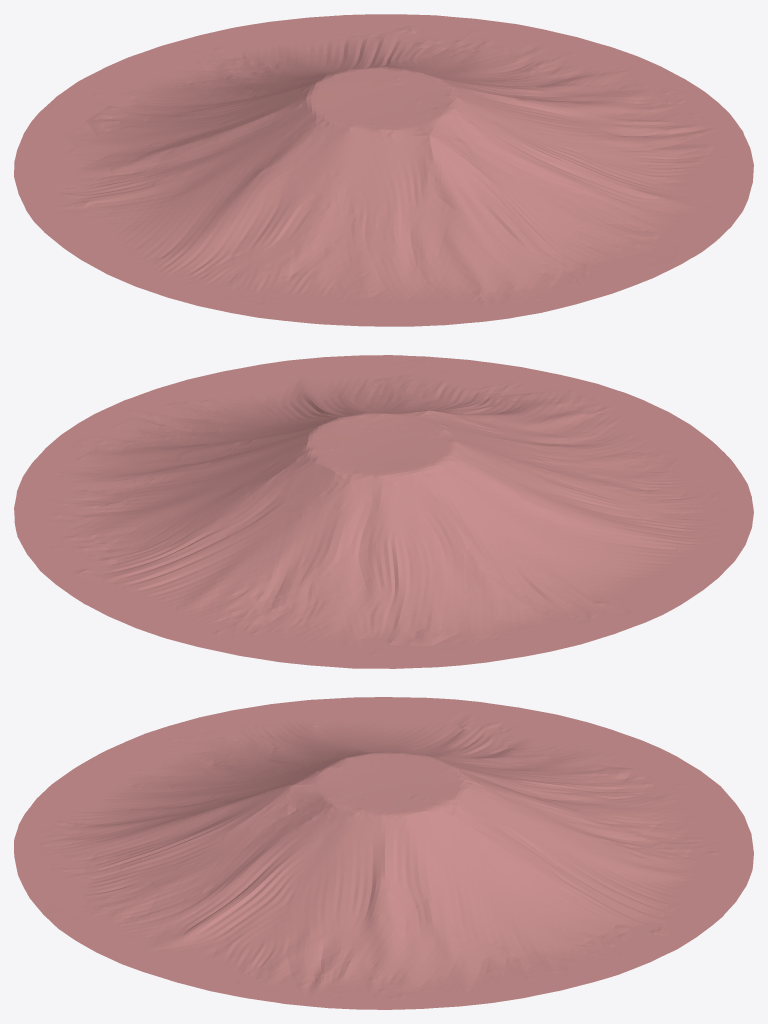
File: level_3.glb
The picture shows the model from 3 angles, top to bottom: view 1: azimuth 30°, elevation 25°; view 2: azimuth 150°, elevation 25°; view 3: azimuth 270°, elevation 25°; orthographic projection.
Visible parts, largest first — view 1: world; view 2: world; view 3: world.
Boxes of the visible parts, bbox=[...] form: world: bbox=[14, 14, 753, 326]; world: bbox=[14, 355, 753, 668]; world: bbox=[14, 697, 753, 1009].
Size of the model in its own units: 0.6271 by 0.0662 by 0.6267.
